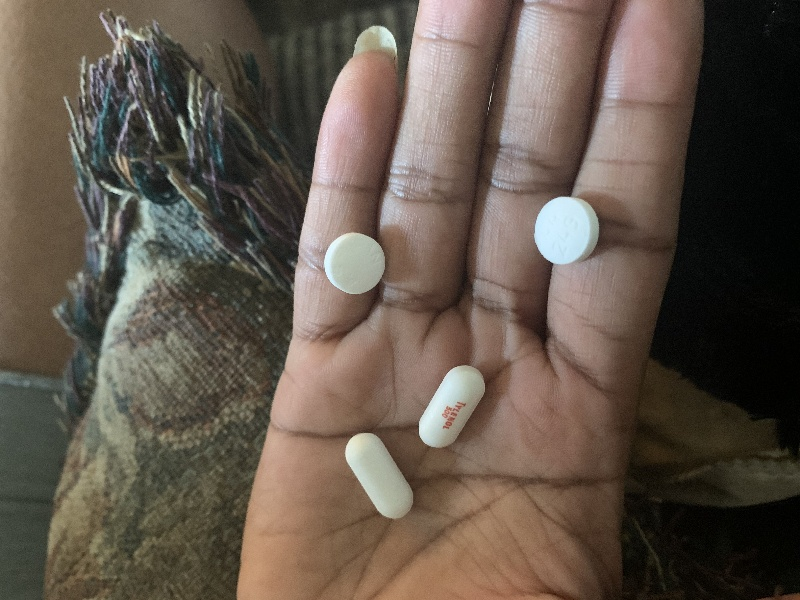Aspirin: (531, 193, 601, 267), (323, 230, 388, 297)
Tylenol: (342, 430, 419, 523), (416, 364, 488, 449)
